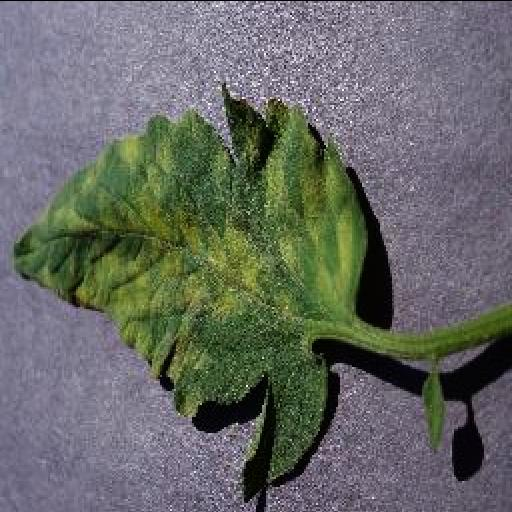disease_tomato: (12, 81, 370, 502)
